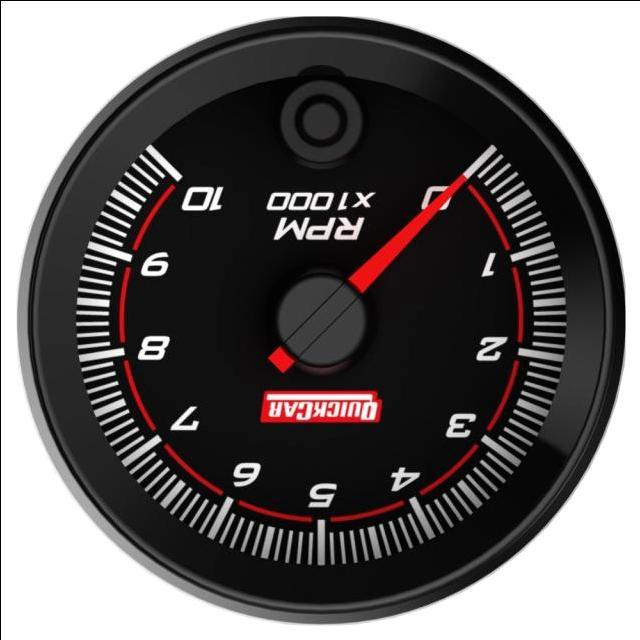Needle_Tip: (406, 149, 510, 212)
Needle_base: (229, 260, 396, 392)
max_value: (163, 160, 237, 235)
min_value: (383, 161, 480, 235)
